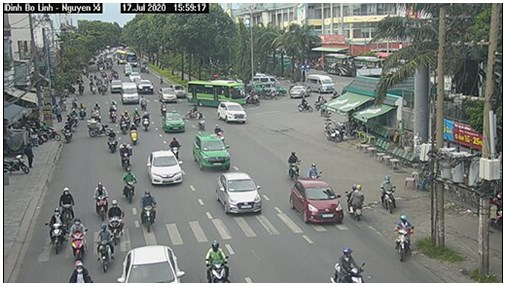xe_buyt: (187, 79, 248, 106)
xe_hoi: (120, 247, 185, 282), (215, 172, 265, 216), (192, 133, 234, 172), (146, 150, 182, 183), (216, 100, 248, 125), (158, 86, 178, 104)
xe_khach: (119, 81, 139, 104)
xe_may: (332, 236, 365, 282), (203, 238, 230, 284), (390, 215, 417, 261), (48, 206, 67, 256), (139, 188, 156, 233), (378, 175, 397, 215), (346, 182, 365, 222), (69, 216, 86, 260), (96, 226, 113, 270), (58, 185, 75, 223), (93, 178, 108, 220), (109, 199, 122, 244), (122, 163, 135, 203), (286, 144, 299, 181), (119, 142, 135, 168), (105, 127, 118, 155), (128, 122, 141, 145), (169, 133, 182, 156), (140, 111, 152, 132), (195, 113, 208, 130)
